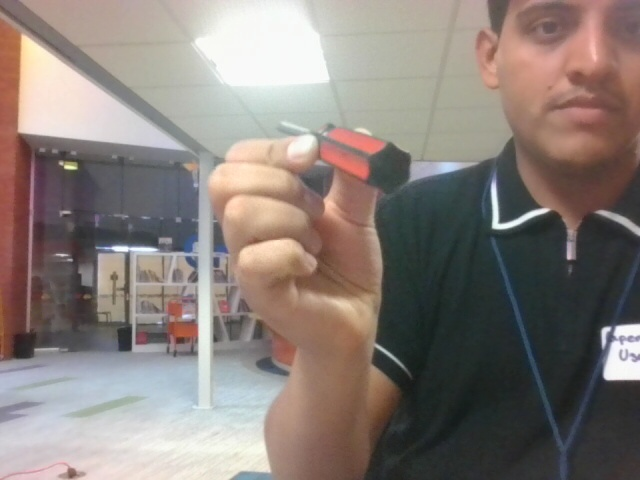destornillador: (276, 120, 412, 195)
